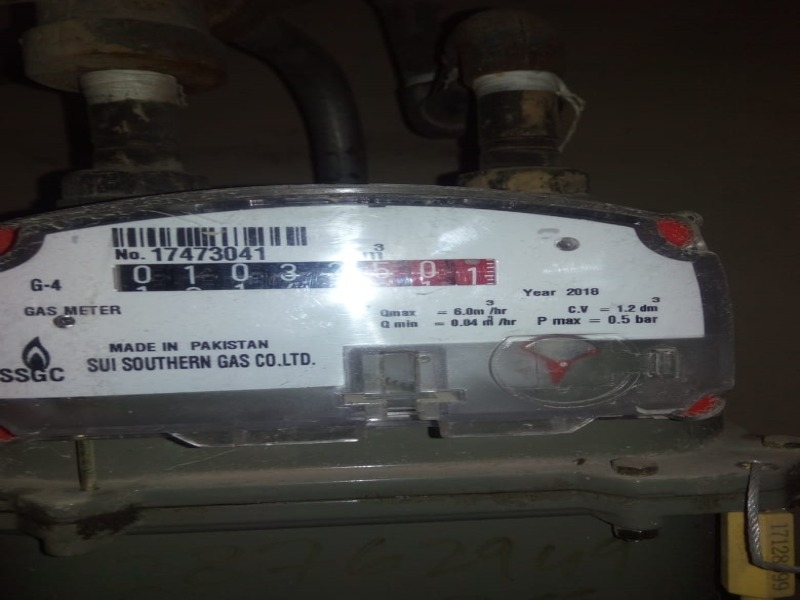ssgc: (106, 257, 500, 294)
